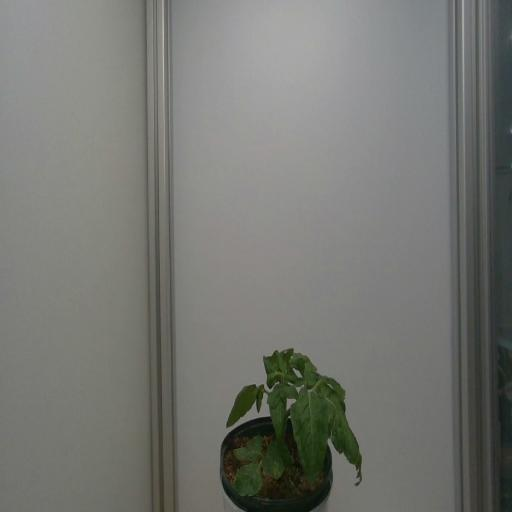Tomato-Leaves-Cupboard-: (318, 363, 366, 478), (293, 388, 332, 489), (223, 381, 259, 433), (233, 456, 263, 498), (270, 388, 290, 440), (266, 347, 296, 381), (262, 439, 285, 482), (234, 432, 262, 462), (294, 349, 314, 389), (255, 381, 266, 418)
